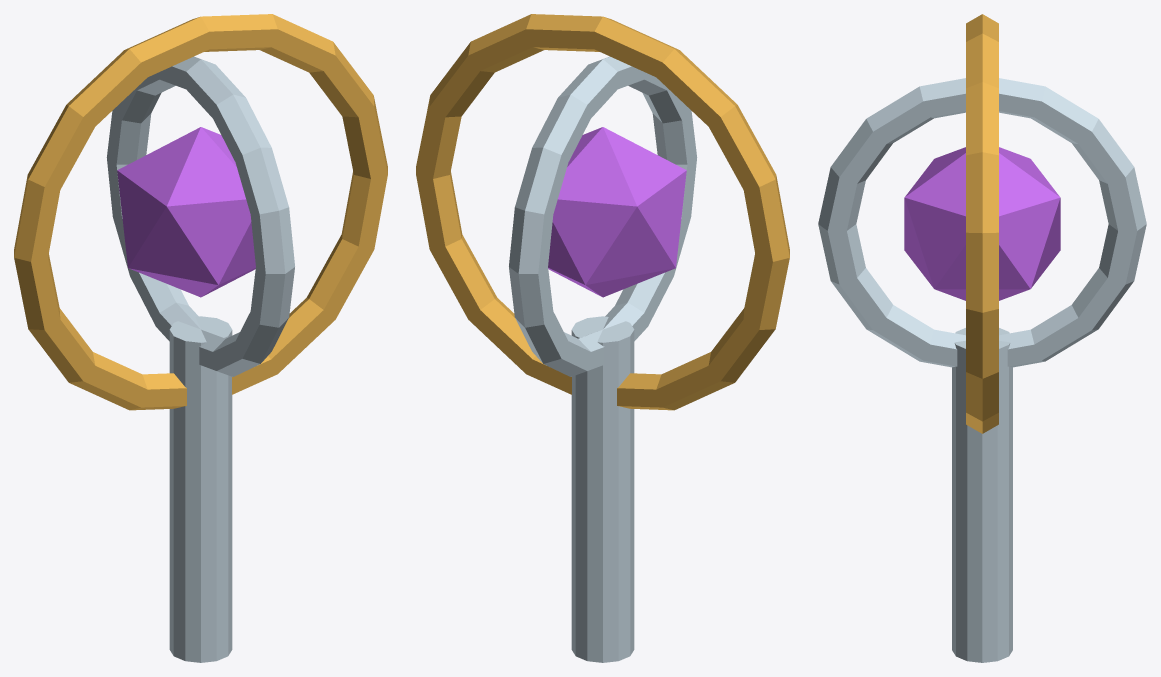
File: arcane-astrolabe-1.glb
3 views of the same model, side by side, from view 1: azimuth 30°, elevation 25°; view 2: azimuth 150°, elevation 25°; view 3: azimuth 270°, elevation 25° (orthographic). The views are drawn at different scales.
Parts seen in each view (by area): view 1: Torus.001, Torus.002, Cylinder, Icosphere; view 2: Torus.001, Torus.002, Cylinder, Icosphere; view 3: Torus.002, Cylinder, Icosphere, Torus.001.
Part boxes in pixels (x1=…): Torus.001: x1=14, y1=14, x2=387, y2=410; Torus.002: x1=106, y1=56, x2=294, y2=376; Cylinder: x1=169, y1=316, x2=232, y2=662; Icosphere: x1=117, y1=127, x2=255, y2=297; Torus.001: x1=416, y1=14, x2=789, y2=410; Torus.002: x1=509, y1=56, x2=697, y2=376; Cylinder: x1=571, y1=316, x2=634, y2=662; Icosphere: x1=548, y1=127, x2=686, y2=297; Torus.002: x1=818, y1=78, x2=1146, y2=367; Cylinder: x1=952, y1=328, x2=1012, y2=662; Icosphere: x1=904, y1=147, x2=1060, y2=300; Torus.001: x1=966, y1=14, x2=998, y2=433.
Bounding box in the file's own units: 0.55 × 0.89 × 0.43.
